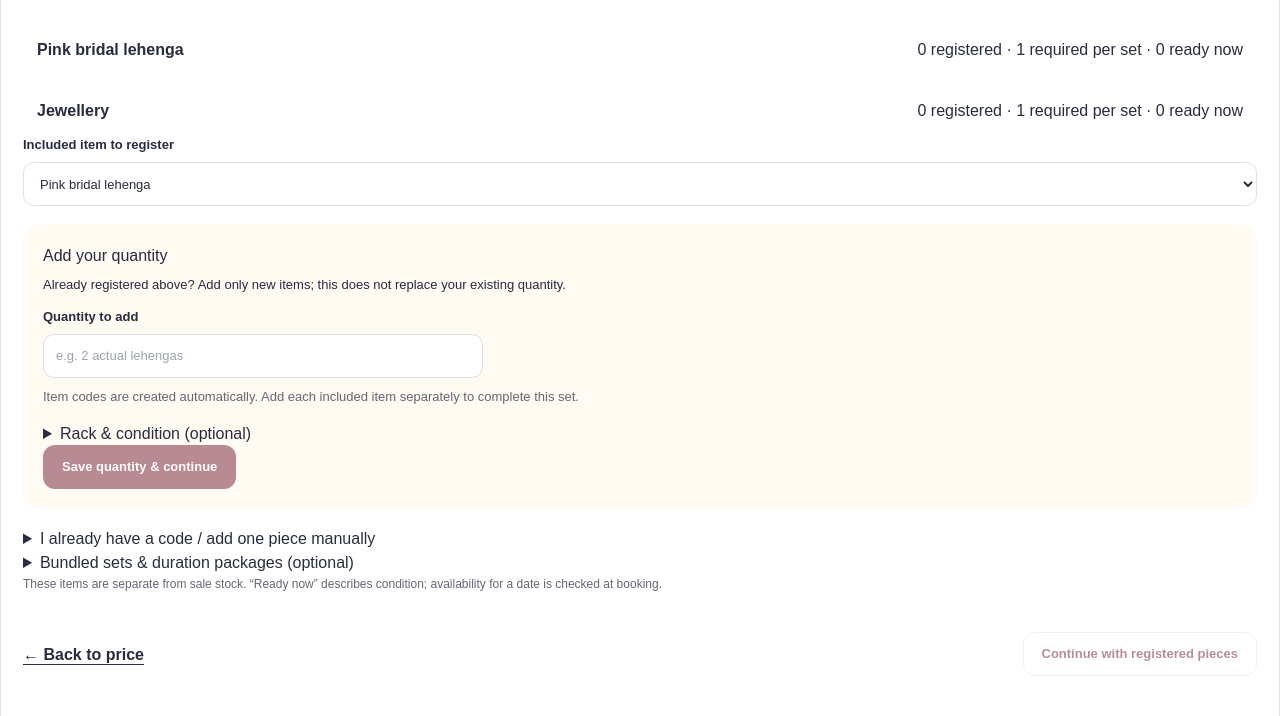
Test: a bundled set stays on quantity until every included component has been owner-counted
The width and height of the screenshot is (1280, 716).
(page scrolled)
Type "1" into the number field labelled "Quantity to add" at (263, 356), box [43,334,483,378]
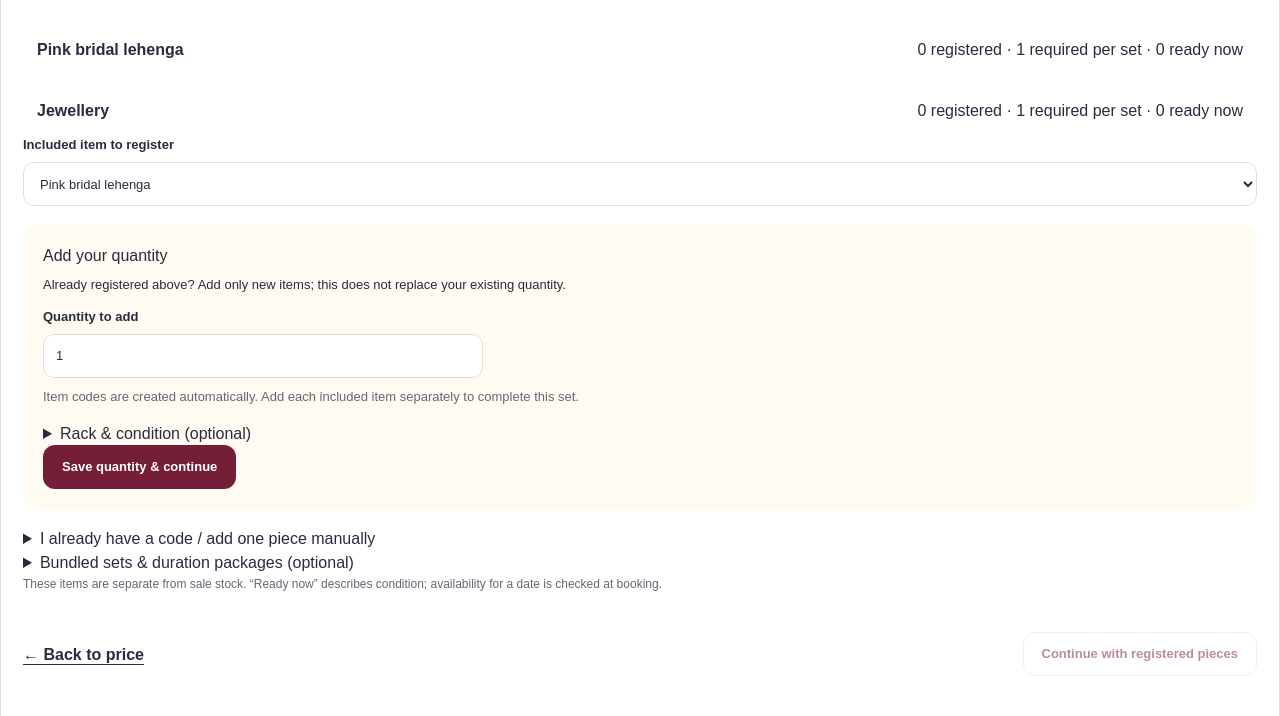
Click the button "Save quantity & continue" at (140, 468), box [43,446,236,490]
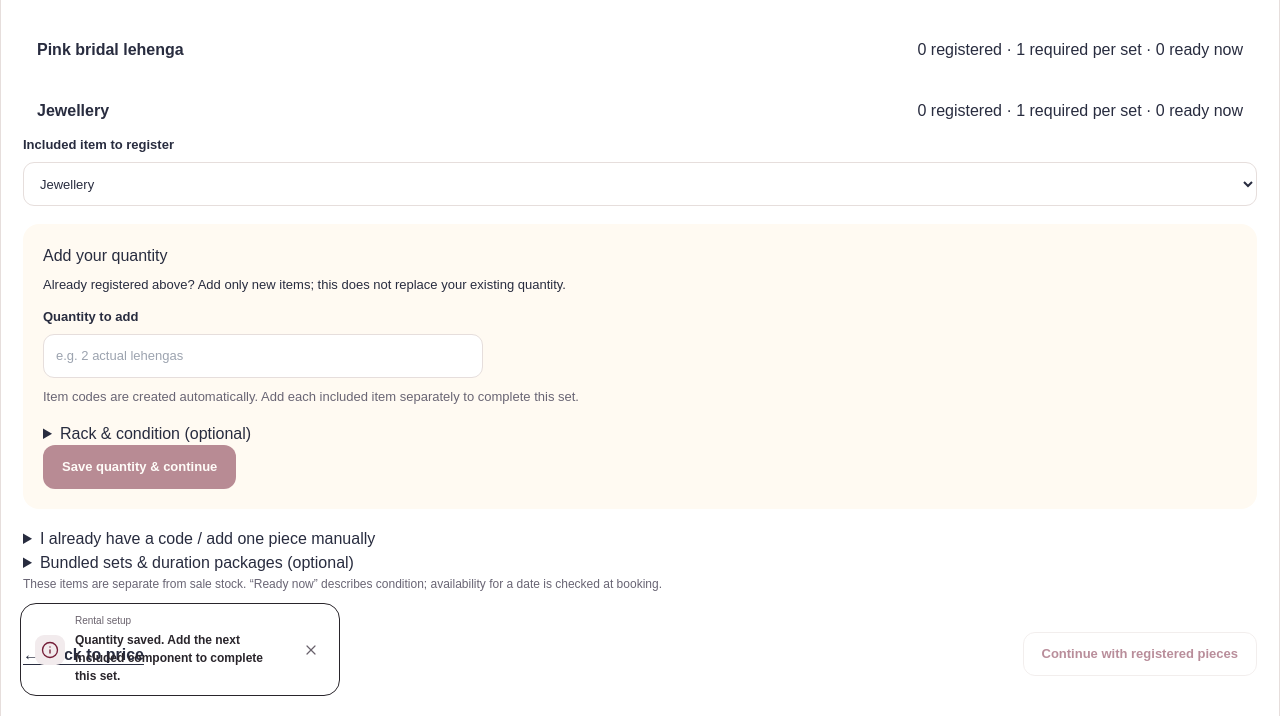
expect the heading "Confirm & start rentals" is not shown: met
expect the dropdown labelled "Included item to register" shows "Jewellery": met, box [23,162,1257,206]
Type "2" into the number field labelled "Quantity to add" at (263, 356), box [43,334,483,378]
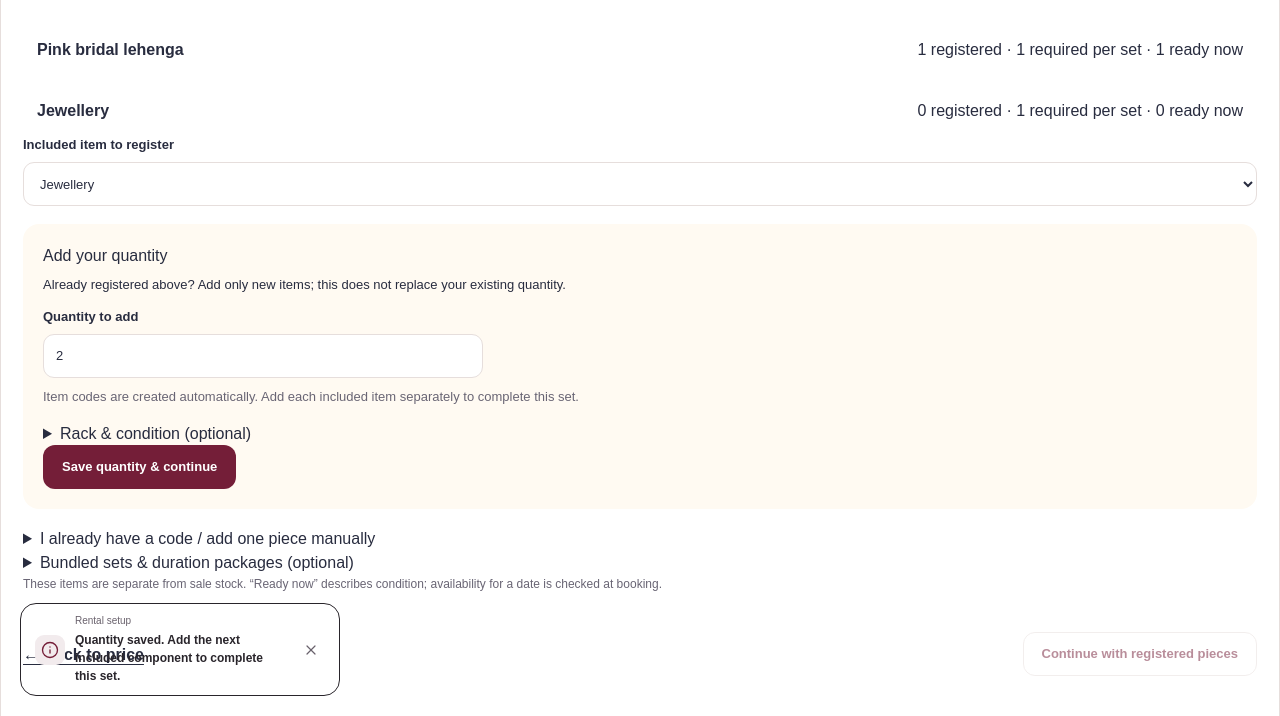
Click the button "Save quantity & continue" at (140, 468), box [43,446,236,490]
(page scrolled)
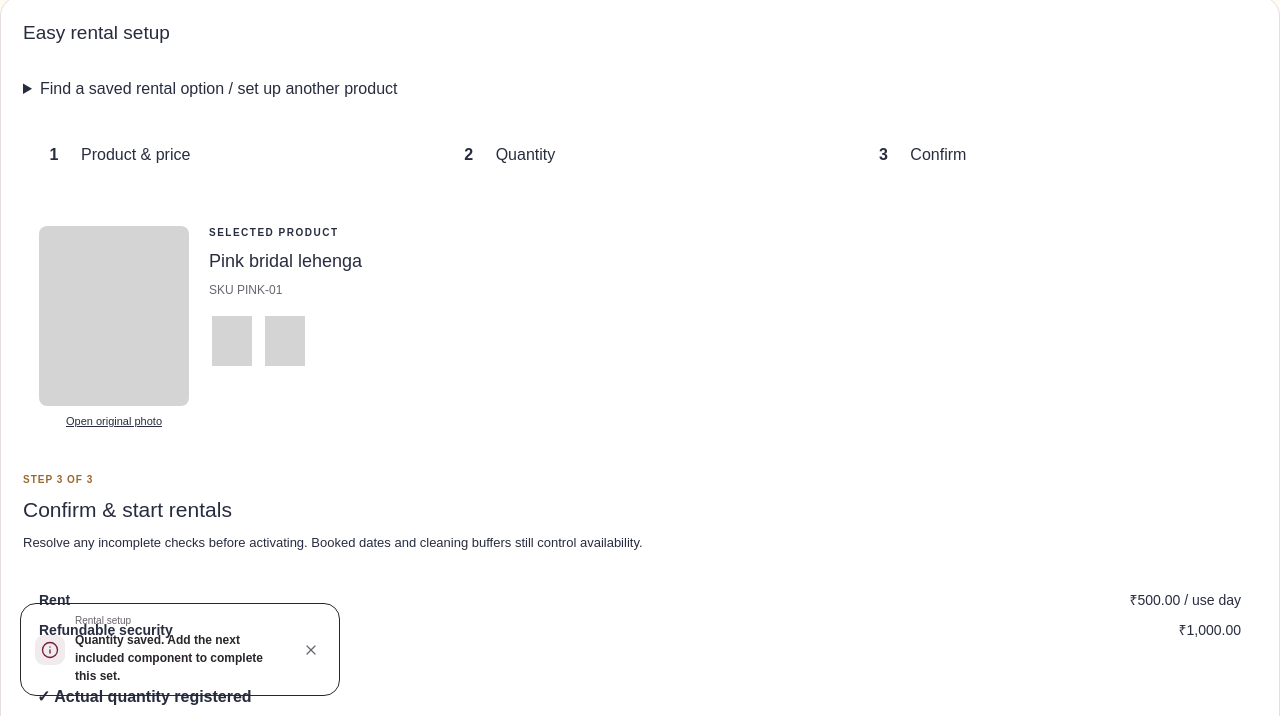
expect the heading "Confirm & start rentals" is shown: met, box [23,498,232,521]
